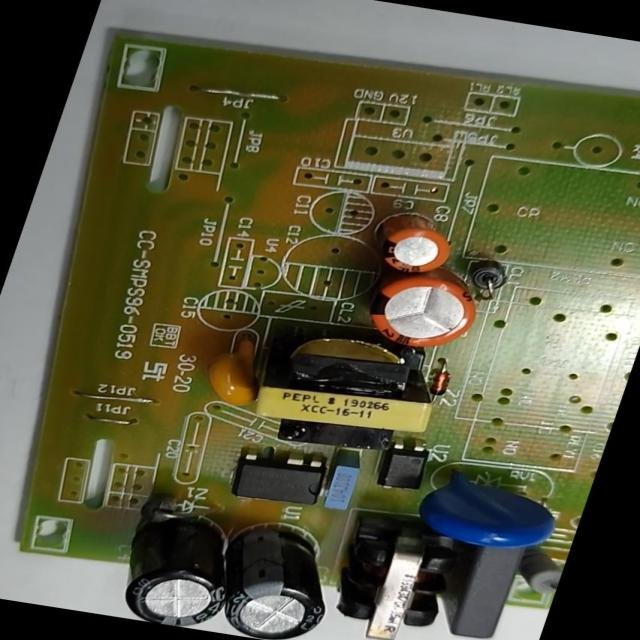Cap1: (345, 255, 497, 361)
Cap2: (350, 198, 480, 285)
Cap3: (205, 510, 355, 640)
Cap4: (102, 492, 266, 633)
MOSFET: (212, 437, 342, 516)
Mov: (400, 450, 587, 560)
Resistor: (500, 539, 570, 598)
Transformer: (215, 302, 477, 468), (304, 502, 501, 640)
